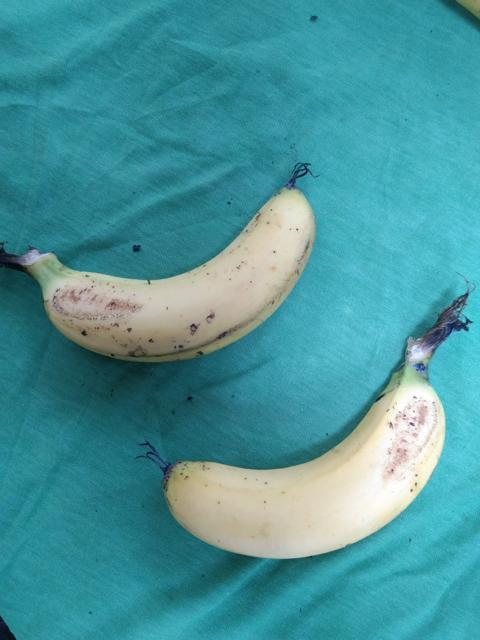freshripe: (151, 364, 448, 564)
ripe: (34, 178, 327, 369)
